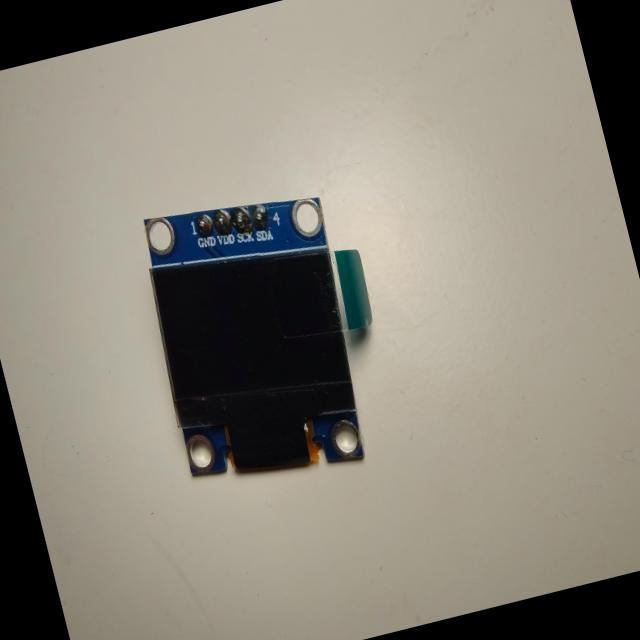oled: (118, 156, 428, 525)
